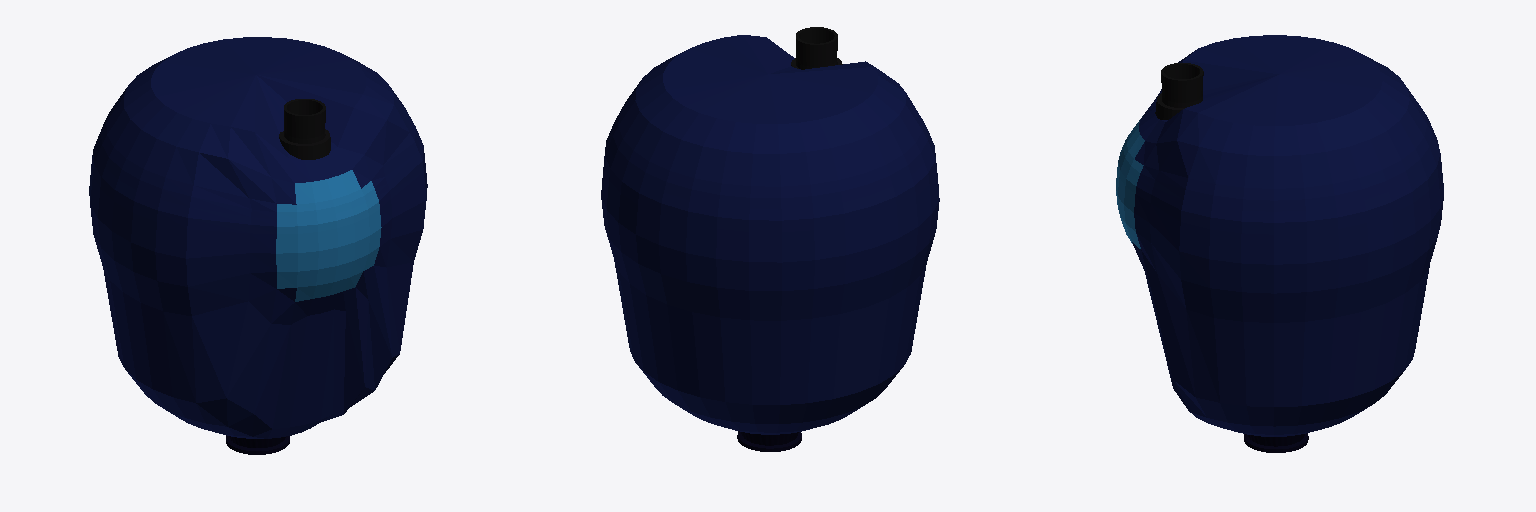
3 renders of one model, left to right at view 1: azimuth 30°, elevation 25°; view 2: azimuth 150°, elevation 25°; view 3: azimuth 270°, elevation 25°, orthographic.
Visible parts, largest first — view 1: Ship_Sphere, Cylinder_Cylinder.001, Engine_Cannon; view 2: Ship_Sphere, Cylinder_Cylinder.001, Engine_Cannon; view 3: Ship_Sphere, Cylinder_Cylinder.001, Engine_Cannon.
Boxes of the visible parts, x1=… form: Ship_Sphere: x1=89, y1=37, x2=427, y2=438; Cylinder_Cylinder.001: x1=279, y1=99, x2=330, y2=159; Engine_Cannon: x1=226, y1=435, x2=289, y2=454; Ship_Sphere: x1=601, y1=35, x2=939, y2=434; Cylinder_Cylinder.001: x1=791, y1=27, x2=842, y2=69; Engine_Cannon: x1=737, y1=431, x2=801, y2=451; Ship_Sphere: x1=1116, y1=35, x2=1443, y2=436; Cylinder_Cylinder.001: x1=1155, y1=63, x2=1203, y2=119; Engine_Cannon: x1=1244, y1=433, x2=1308, y2=452.
Size of the model in its own units: 1.99 by 2.38 by 1.92.